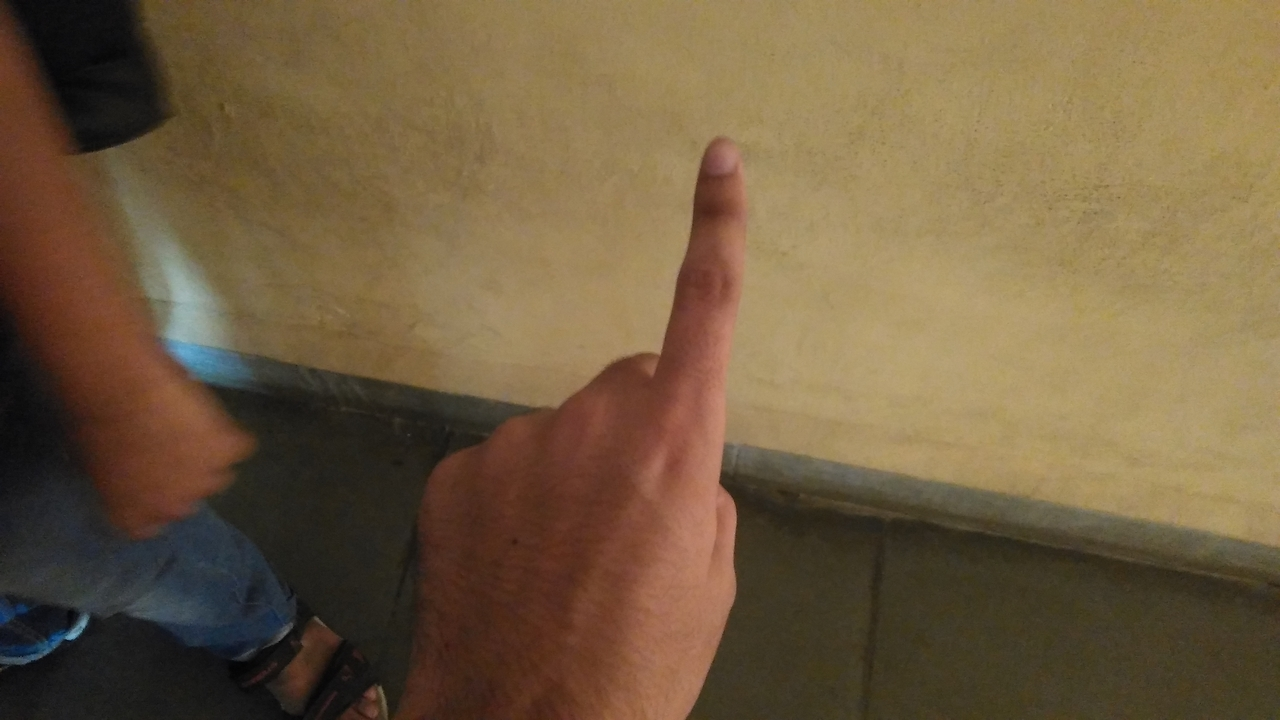fingertip: (694, 130, 754, 184)
